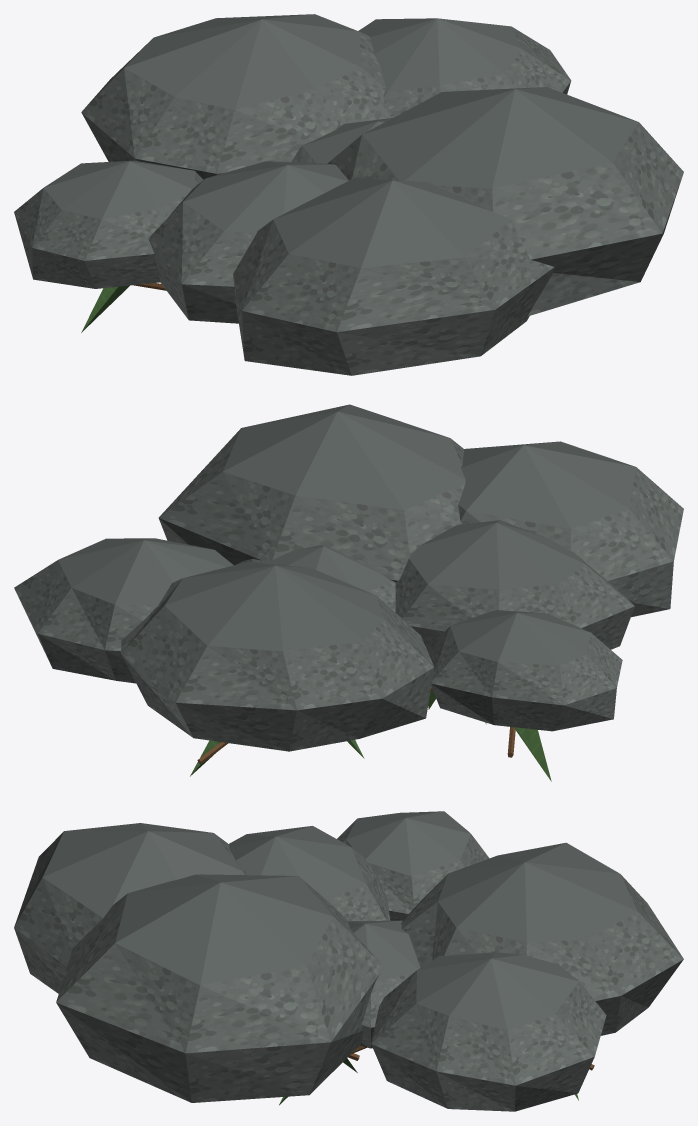
The model's file is en-005_beach_stone_cluster__medium.obj.
3 views of the same model, one above another, from view 1: azimuth 30°, elevation 25°; view 2: azimuth 150°, elevation 25°; view 3: azimuth 270°, elevation 25° (orthographic). The views are drawn at different scales.
Visible parts, largest first — view 1: en-005_beach_stone_cluster__medium; view 2: en-005_beach_stone_cluster__medium; view 3: en-005_beach_stone_cluster__medium.
Boxes of the visible parts, x1=… form: en-005_beach_stone_cluster__medium: x1=14, y1=14, x2=683, y2=375; en-005_beach_stone_cluster__medium: x1=14, y1=404, x2=683, y2=781; en-005_beach_stone_cluster__medium: x1=14, y1=811, x2=683, y2=1111.
Size of the model in its own units: 1.41 by 0.569 by 1.48.
Materials: 4 (4 with a texture image).
